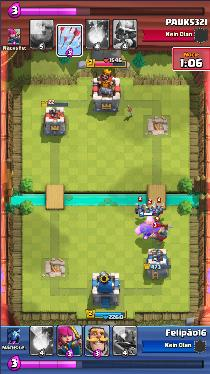ally_giant: (134, 217, 165, 240)
enemy_knight: (150, 226, 169, 244)
enemy_minion: (153, 205, 163, 214), (136, 204, 144, 213), (146, 208, 155, 215)
